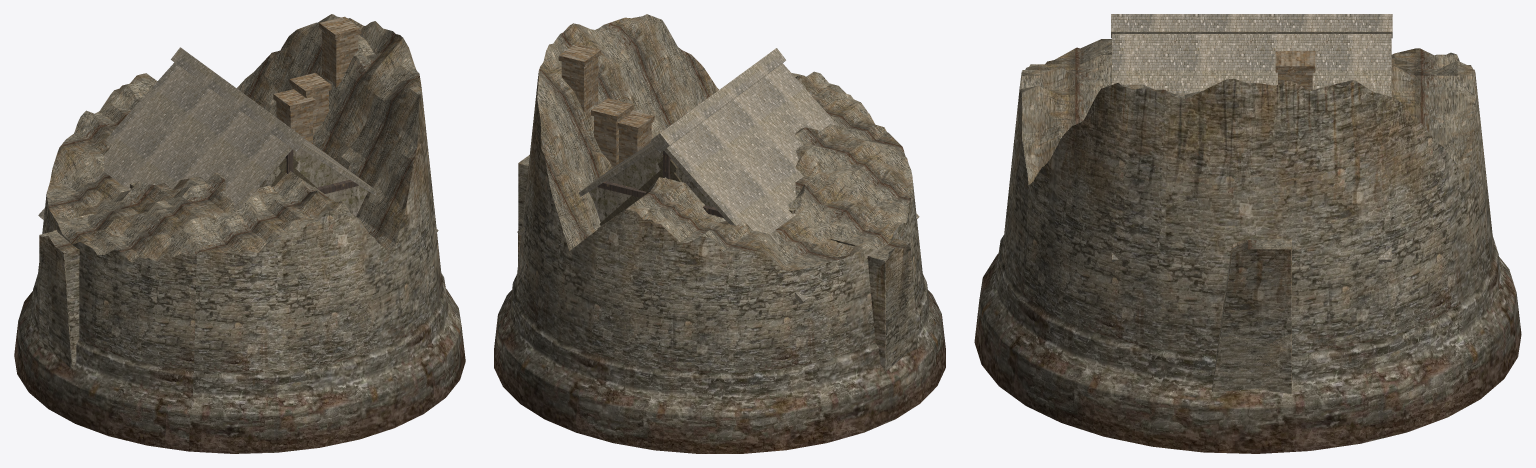
The model's file is props.glb.
The picture shows the model from 3 angles, left to right: view 1: azimuth 30°, elevation 25°; view 2: azimuth 150°, elevation 25°; view 3: azimuth 270°, elevation 25°; orthographic projection. The views are drawn at different scales.
Parts seen in each view (by area): view 1: ruin_tower, house_chief, ruin_wall_a, ruin_wall_b, house_b, house_c; view 2: ruin_tower, house_chief, ruin_wall_b, ruin_wall_a, house_c, house_b, house_a; view 3: ruin_tower, house_chief, ruin_wall_b, ruin_wall_a.
Part boxes in pixels (x1,y1,x2,y2): ruin_tower: [14, 14, 465, 453]; house_chief: [38, 16, 438, 301]; ruin_wall_a: [39, 236, 72, 369]; ruin_wall_b: [39, 213, 96, 368]; house_b: [273, 89, 315, 143]; house_c: [289, 73, 331, 135]; ruin_tower: [494, 14, 945, 453]; house_chief: [517, 43, 919, 303]; ruin_wall_b: [518, 155, 912, 371]; ruin_wall_a: [518, 233, 918, 371]; house_c: [591, 98, 666, 228]; house_b: [617, 110, 654, 163]; house_a: [599, 159, 681, 225]; ruin_tower: [974, 39, 1521, 453]; house_chief: [1111, 14, 1392, 261]; ruin_wall_b: [1212, 238, 1291, 392]; ruin_wall_a: [1212, 333, 1291, 393].
Size of the model in its own units: 15.84 by 11.22 by 15.84.
Materials: 29 (27 with a texture image).
